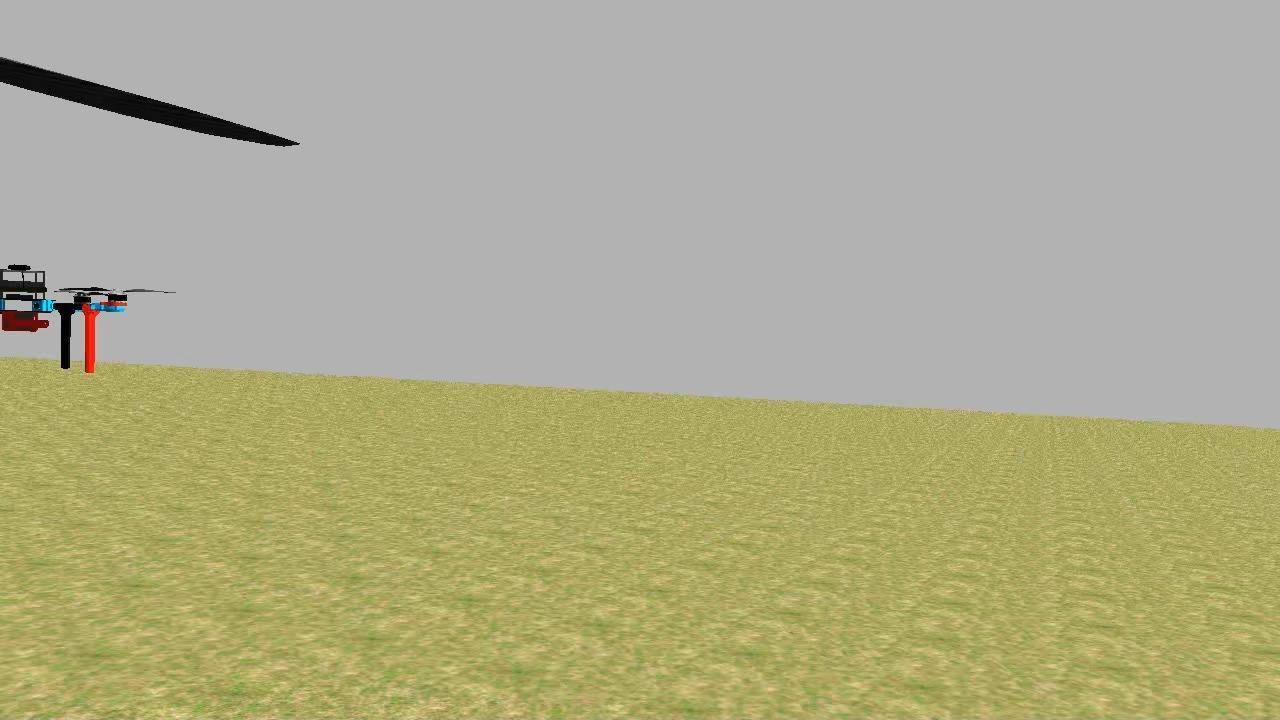UAV: (0, 254, 137, 389)
